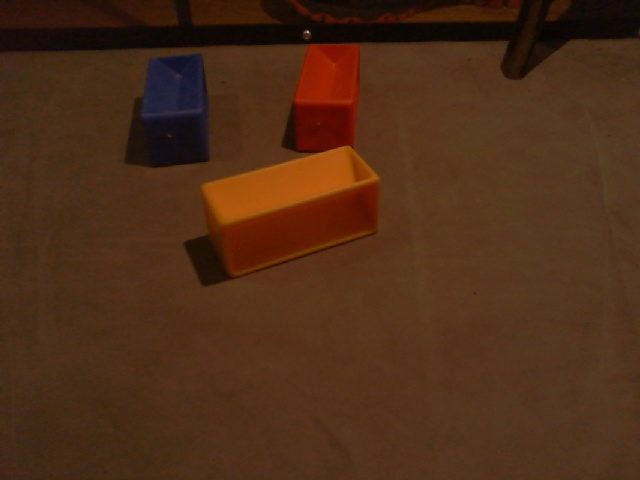BlueSample: (137, 54, 213, 169)
RedSample: (285, 38, 365, 153)
YellowSample: (198, 143, 380, 281)
